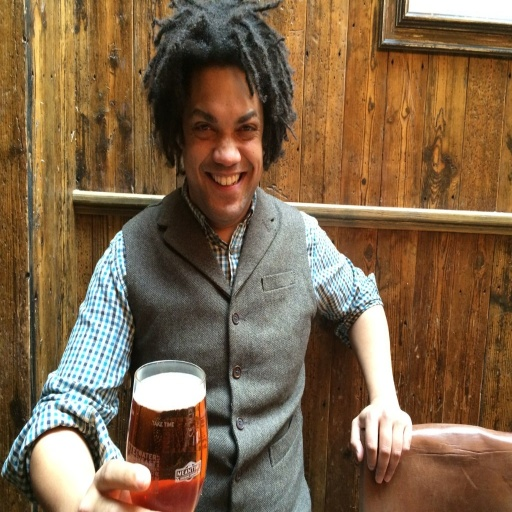hand: (353, 338, 410, 484), (76, 455, 163, 511)
